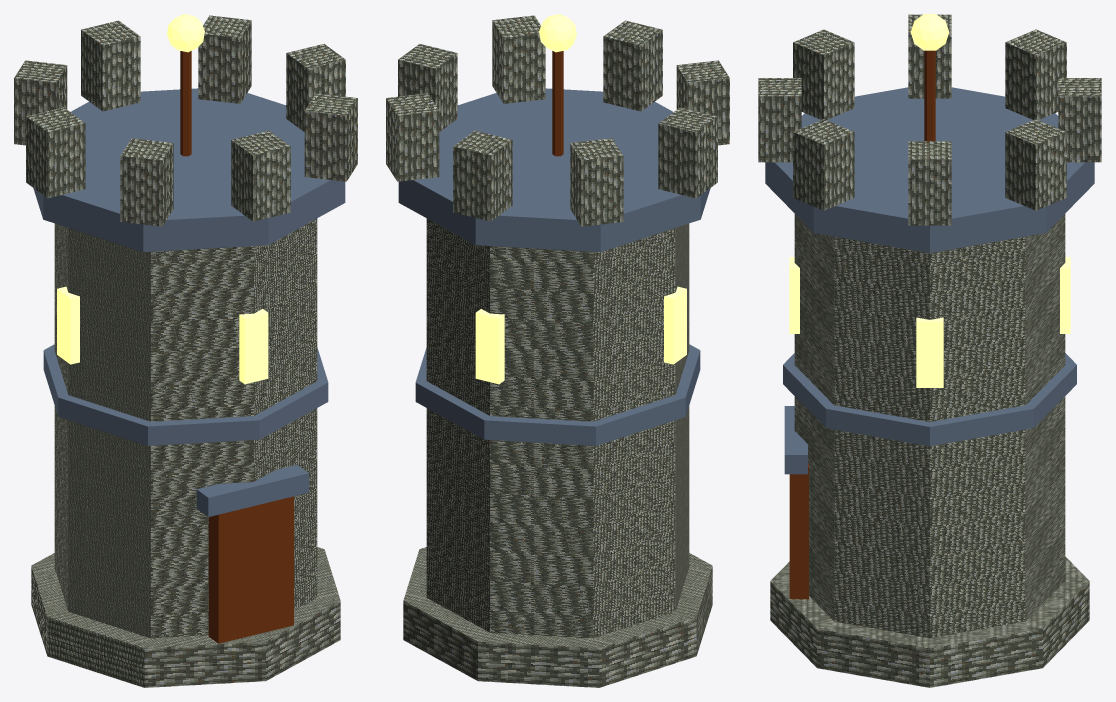
File: torre.glb
3 views of the same model, side by side, from view 1: azimuth 30°, elevation 25°; view 2: azimuth 150°, elevation 25°; view 3: azimuth 270°, elevation 25° (orthographic).
Parts seen in each view (by area): view 1: Cylinder.001, Cylinder.003, Cylinder, Cube, Cylinder.002, Cube.010, Cube.012, Cube.008, Cube.011, Cube.013, Cube.007, Cube.006 (+6 smaller); view 2: Cylinder.001, Cylinder.003, Cylinder, Cylinder.002, Cube.008, Cube.010, Cube.012, Cube.009, Cube.007, Cube.013, Cube.006, Cube.011 (+4 smaller); view 3: Cylinder.001, Cylinder.003, Cylinder, Cylinder.002, Cube.007, Cube.013, Cube.009, Cube.011, Cube.006, Cube.008, Cube.012, Cube (+7 smaller).
Boxes of the visible parts, x1=… form: Cylinder.001: x1=54, y1=218, x2=317, y2=638; Cylinder.003: x1=33, y1=88, x2=345, y2=251; Cylinder: x1=31, y1=547, x2=340, y2=687; Cube: x1=208, y1=496, x2=293, y2=643; Cylinder.002: x1=43, y1=344, x2=328, y2=445; Cube.010: x1=26, y1=107, x2=85, y2=198; Cube.012: x1=231, y1=130, x2=290, y2=221; Cube.008: x1=81, y1=20, x2=140, y2=111; Cube.011: x1=120, y1=138, x2=173, y2=226; Cube.013: x1=304, y1=93, x2=357, y2=181; Cube.007: x1=198, y1=15, x2=251, y2=103; Cube.006: x1=286, y1=44, x2=345, y2=131; Cylinder.001: x1=426, y1=218, x2=689, y2=638; Cylinder.003: x1=398, y1=88, x2=710, y2=251; Cylinder: x1=403, y1=547, x2=712, y2=687; Cylinder.002: x1=415, y1=344, x2=700, y2=445; Cube.008: x1=453, y1=130, x2=512, y2=221; Cube.010: x1=658, y1=107, x2=717, y2=198; Cube.012: x1=603, y1=20, x2=662, y2=111; Cube.009: x1=570, y1=138, x2=623, y2=226; Cube.007: x1=386, y1=93, x2=439, y2=181; Cube.013: x1=492, y1=15, x2=545, y2=103; Cube.006: x1=398, y1=44, x2=457, y2=131; Cube.011: x1=676, y1=60, x2=729, y2=145; Cylinder.001: x1=794, y1=214, x2=1065, y2=638; Cylinder.003: x1=765, y1=87, x2=1094, y2=252; Cylinder: x1=770, y1=556, x2=1089, y2=687; Cylinder.002: x1=783, y1=353, x2=1076, y2=446; Cube.007: x1=1005, y1=119, x2=1066, y2=210; Cube.013: x1=793, y1=119, x2=854, y2=210; Cube.009: x1=1005, y1=29, x2=1066, y2=119; Cube.011: x1=793, y1=29, x2=854, y2=119; Cube.006: x1=908, y1=141, x2=951, y2=225; Cube.008: x1=1058, y1=78, x2=1101, y2=162; Cube.012: x1=758, y1=78, x2=801, y2=162; Cube: x1=789, y1=463, x2=808, y2=599.
Size of the model in its own units: 3.55 by 6.9 by 3.55.
Materials: 4 (1 with a texture image).
